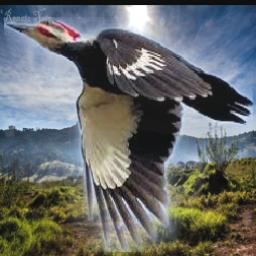Woodpecker: (5, 18, 254, 253)
